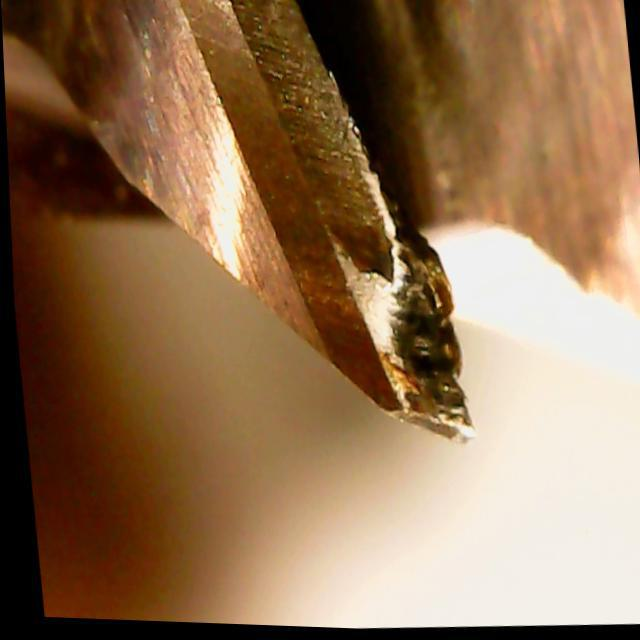Tool-wear-class-3: (299, 214, 486, 467)
